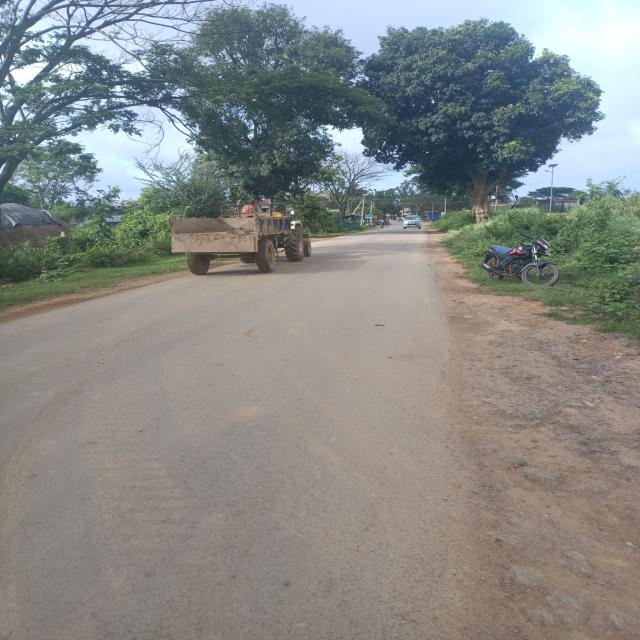Bike: (478, 229, 550, 291), (366, 223, 376, 229), (378, 223, 385, 229), (431, 218, 436, 222)
Car: (402, 214, 424, 229)
tractor: (166, 196, 319, 278)
